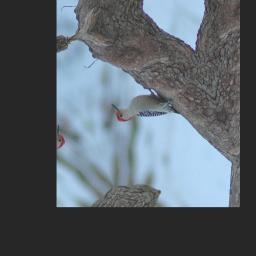Woodpecker: (110, 79, 182, 138)
